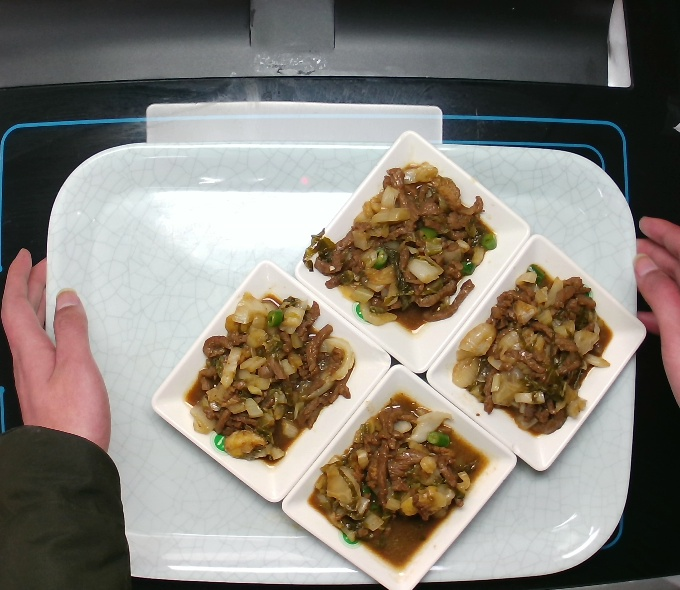wcq-PaoCaiNiuRou: (456, 254, 622, 432), (308, 384, 474, 562), (184, 292, 350, 470), (319, 160, 485, 338)
